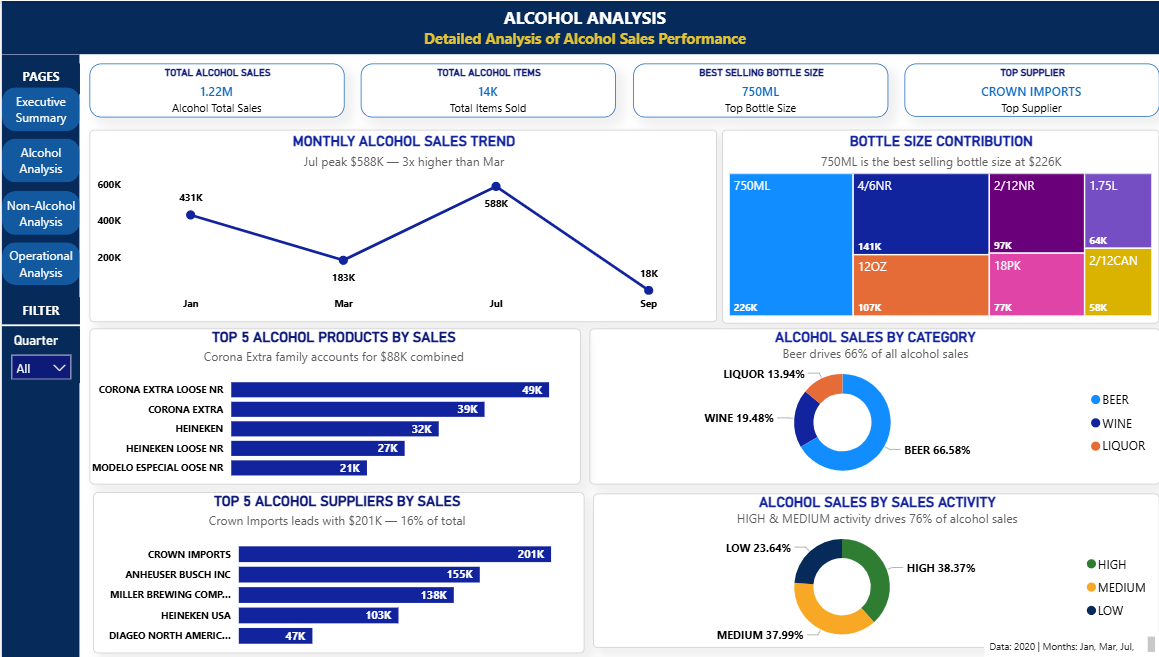

The page's visual inventory and layout, read from the dashboard file:
{"tool":"powerbi","page":{"name":"Alcohol Analysis","canvas":[1280,720],"ordinal":1},"visuals":[{"type":"textbox","box":[0,0,1280,58.6],"z":0},{"type":"cardVisual","title":"TOTAL ALCOHOL SALES","fields":{"Data":["alcohol_data_processed.Alcohol Total Sales"]},"box":[96.1,68.6,280,59],"z":0,"group":"g1"},{"type":"shape","box":[0,59,85.1,661.4],"z":1000},{"type":"cardVisual","title":"TOTAL ALCOHOL ITEMS","fields":{"Data":["alcohol_data_processed.Alcohol Total Items"]},"box":[394.3,68.6,280,59],"z":1000,"group":"g1"},{"type":"cardVisual","title":"BEST SELLING BOTTLE SIZE","fields":{"Data":["alcohol_data_processed.Top Bottle Size"]},"box":[692.5,68.6,280,59],"z":2000,"group":"g1"},{"type":"textbox","box":[0,68.8,85.7,33.8],"z":2000},{"type":"cardVisual","title":"TOP SUPPLIER","fields":{"Data":["alcohol_data_processed.Top Supplier"]},"box":[990.8,68.6,279.9,58.7],"z":3000,"group":"g1"},{"type":"actionButton","box":[0,208.7,85.7,48.3],"z":3000},{"type":"actionButton","box":[0,150.8,85.7,48.3],"z":4000},{"type":"actionButton","box":[0,265.4,85.7,47.1],"z":5000},{"type":"slicer","title":"Quarter","fields":{"Values":["non_alcohol_data_processed.quarter"]},"box":[0,360,85.7,60],"z":6000},{"type":"actionButton","box":[0,94.1,85.7,48.3],"z":7000},{"type":"textbox","box":[0,325.7,85.7,33.8],"z":8000},{"type":"group","id":"g1","title":"Group 1","box":[96.1,68.6,1174.6,59],"z":9000},{"type":"group","id":"g2","title":"Group 2","box":[96.1,141.3,1174.6,212.7],"z":10000},{"type":"lineChart","title":"MONTHLY ALCOHOL SALES TREND","fields":{"Category":["alcohol_data_processed.Month Name"],"Y":["Sum(alcohol_data_processed.total_sales)"]},"box":[96.1,141.3,688.9,211.3],"z":10000,"group":"g2"},{"type":"donutChart","title":"ALCOHOL SALES BY CATEGORY","fields":{"Y":["Sum(alcohol_data_processed.total_sales)"],"Category":["alcohol_data_processed.item_type"]},"box":[644.6,359.5,626.1,171.3],"z":10000,"group":"g3"},{"type":"group","id":"g3","title":"Group 3","box":[96.1,359.5,1174.6,356.8],"z":11000},{"type":"clusteredBarChart","title":"TOP 5 ALCOHOL PRODUCTS BY SALES","fields":{"Category":["alcohol_data_processed.item_description"],"Y":["Sum(alcohol_data_processed.total_sales)"]},"box":[96.1,359.5,538.8,171.3],"z":11000,"group":"g3"},{"type":"treemap","title":"BOTTLE SIZE CONTRIBUTION","fields":{"Values":["Sum(alcohol_data_processed.total_sales)"],"Group":["alcohol_data_processed.bottle_size"]},"box":[790.8,141.3,479.9,212.7],"z":11002,"group":"g2"},{"type":"shape","box":[0,341.4,85.7,28.6],"z":12000},{"type":"clusteredBarChart","title":"TOP 5 ALCOHOL SUPPLIERS BY SALES","fields":{"Y":["Sum(alcohol_data_processed.total_sales)"],"Category":["alcohol_data_processed.supplier"]},"box":[100.1,539.6,539,176.7],"z":12000,"group":"g3"},{"type":"textbox","box":[1078.6,693,192.1,27.4],"z":13000},{"type":"donutChart","title":"ALCOHOL SALES BY SALES ACTIVITY","fields":{"Y":["Sum(alcohol_data_processed.total_sales)"],"Category":["alcohol_data_processed.sales_activity"]},"box":[648.6,541,622,169.8],"z":14000,"group":"g3"}]}

Visuals, with their boxes on the page's 1280x720 design canvas (x1, y1, x2, y2). These are canvas units, not pixel positions in the 1159x657 screenshot, which may show the page scaled, cropped or inside an application window:
textbox: x1=0 y1=0 x2=1280 y2=59
"TOTAL ALCOHOL SALES" cardVisual: x1=96 y1=69 x2=376 y2=128
shape: x1=0 y1=59 x2=85 y2=720
"TOTAL ALCOHOL ITEMS" cardVisual: x1=394 y1=69 x2=674 y2=128
"BEST SELLING BOTTLE SIZE" cardVisual: x1=692 y1=69 x2=972 y2=128
textbox: x1=0 y1=69 x2=86 y2=103
"TOP SUPPLIER" cardVisual: x1=991 y1=69 x2=1271 y2=127
actionButton: x1=0 y1=209 x2=86 y2=257
actionButton: x1=0 y1=151 x2=86 y2=199
actionButton: x1=0 y1=265 x2=86 y2=312
"Quarter" slicer: x1=0 y1=360 x2=86 y2=420
actionButton: x1=0 y1=94 x2=86 y2=142
textbox: x1=0 y1=326 x2=86 y2=360
"Group 1" group: x1=96 y1=69 x2=1271 y2=128
"Group 2" group: x1=96 y1=141 x2=1271 y2=354
"MONTHLY ALCOHOL SALES TREND" lineChart: x1=96 y1=141 x2=785 y2=353
"ALCOHOL SALES BY CATEGORY" donutChart: x1=645 y1=360 x2=1271 y2=531
"Group 3" group: x1=96 y1=360 x2=1271 y2=716
"TOP 5 ALCOHOL PRODUCTS BY SALES" clusteredBarChart: x1=96 y1=360 x2=635 y2=531
"BOTTLE SIZE CONTRIBUTION" treemap: x1=791 y1=141 x2=1271 y2=354
shape: x1=0 y1=341 x2=86 y2=370
"TOP 5 ALCOHOL SUPPLIERS BY SALES" clusteredBarChart: x1=100 y1=540 x2=639 y2=716
textbox: x1=1079 y1=693 x2=1271 y2=720
"ALCOHOL SALES BY SALES ACTIVITY" donutChart: x1=649 y1=541 x2=1271 y2=711
